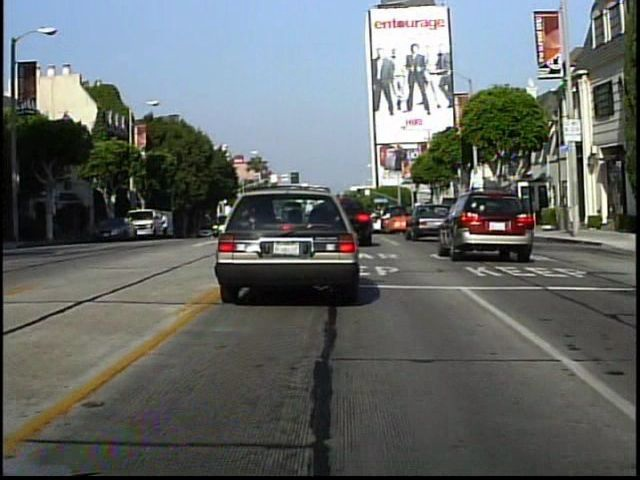person: (159, 208, 172, 242)
